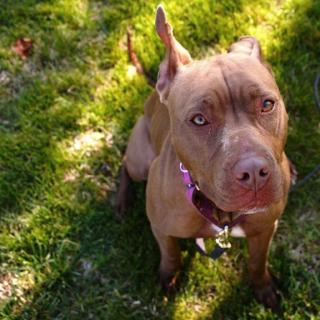dog: (151, 4, 300, 223)
nose: (231, 157, 276, 191)
